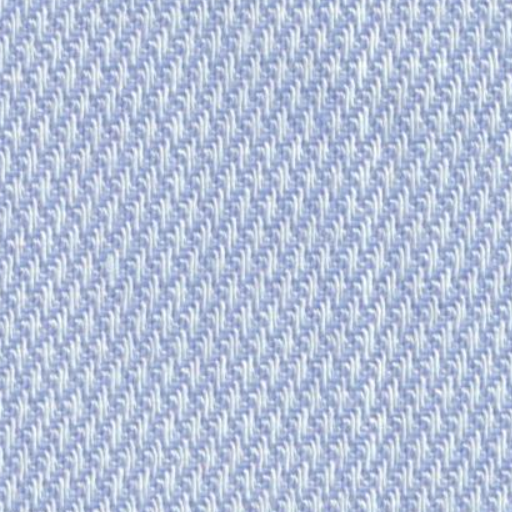TuoSha: (314, 14, 447, 494)
